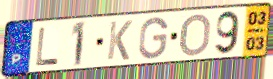1: (71, 20, 88, 67)
9: (214, 9, 243, 56)
G: (137, 16, 170, 61)
K: (105, 19, 134, 62)
L: (34, 26, 60, 67)
O: (178, 12, 213, 58)
